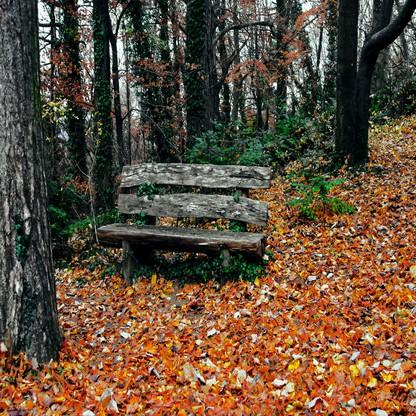obstacle: (99, 156, 281, 293)
